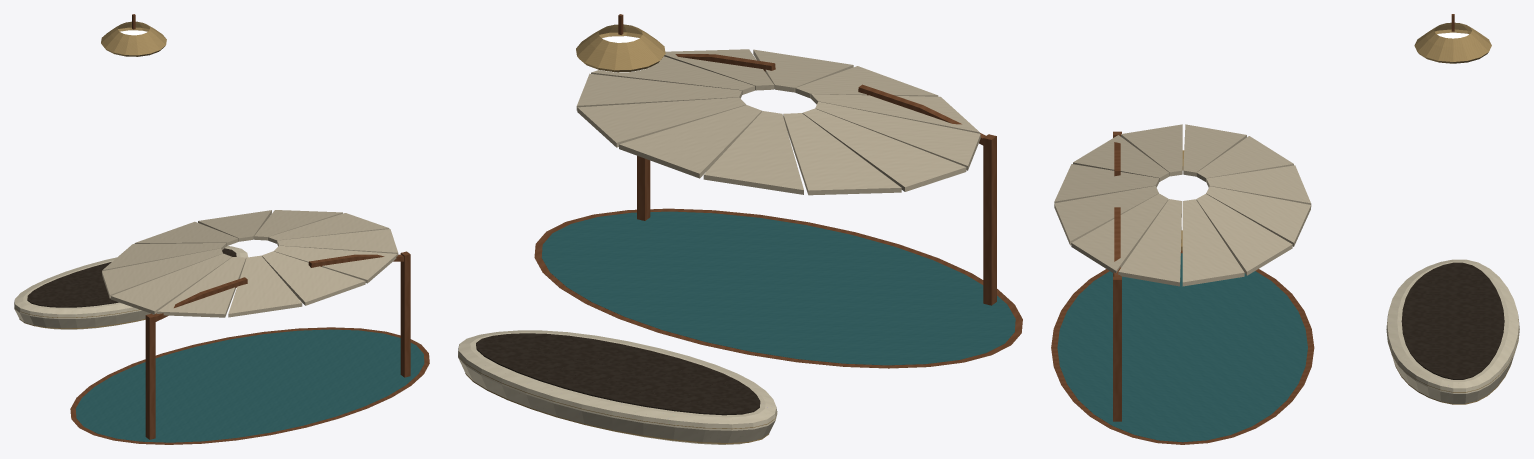
The model's file is AST-COM-002.glb.
3 views of the same model, side by side, from view 1: azimuth 30°, elevation 25°; view 2: azimuth 150°, elevation 25°; view 3: azimuth 270°, elevation 25° (orthographic). The views are drawn at different scales.
Parts seen in each view (by area): view 1: GATHER_floor_rug_carpet, GATHER_oatmeal_weave, GATHER_warm_walnut, GATHER_warm_stone, GATHER_floor_rug_binding, GATHER_botanical_soil, GATHER_champagne_metal; view 2: GATHER_floor_rug_carpet, GATHER_oatmeal_weave, GATHER_botanical_soil, GATHER_warm_stone, GATHER_warm_walnut, GATHER_floor_rug_binding, GATHER_champagne_metal; view 3: GATHER_floor_rug_carpet, GATHER_oatmeal_weave, GATHER_botanical_soil, GATHER_warm_stone, GATHER_floor_rug_binding, GATHER_champagne_metal, GATHER_warm_walnut.
Boxes of the visible parts, x1,y1,x2,y2 form: GATHER_floor_rug_carpet: [75, 329, 424, 442]; GATHER_oatmeal_weave: [102, 210, 398, 317]; GATHER_warm_walnut: [132, 14, 410, 439]; GATHER_warm_stone: [14, 246, 247, 329]; GATHER_floor_rug_binding: [70, 327, 429, 444]; GATHER_botanical_soil: [27, 248, 236, 307]; GATHER_champagne_metal: [14, 21, 166, 328]; GATHER_floor_rug_carpet: [541, 211, 1015, 365]; GATHER_oatmeal_weave: [576, 49, 980, 195]; GATHER_botanical_soil: [476, 333, 760, 415]; GATHER_warm_stone: [458, 330, 777, 444]; GATHER_warm_walnut: [618, 14, 996, 305]; GATHER_floor_rug_binding: [534, 208, 1022, 368]; GATHER_champagne_metal: [458, 24, 777, 444]; GATHER_floor_rug_carpet: [1057, 253, 1307, 442]; GATHER_oatmeal_weave: [1054, 124, 1311, 286]; GATHER_botanical_soil: [1401, 262, 1504, 379]; GATHER_warm_stone: [1386, 259, 1519, 403]; GATHER_floor_rug_binding: [1051, 250, 1314, 444]; GATHER_champagne_metal: [1181, 22, 1519, 404]; GATHER_warm_walnut: [1113, 14, 1454, 421].
Size of the model in its own units: 10.2 by 8.16 by 10.4.
8 materials, 7 textured.
